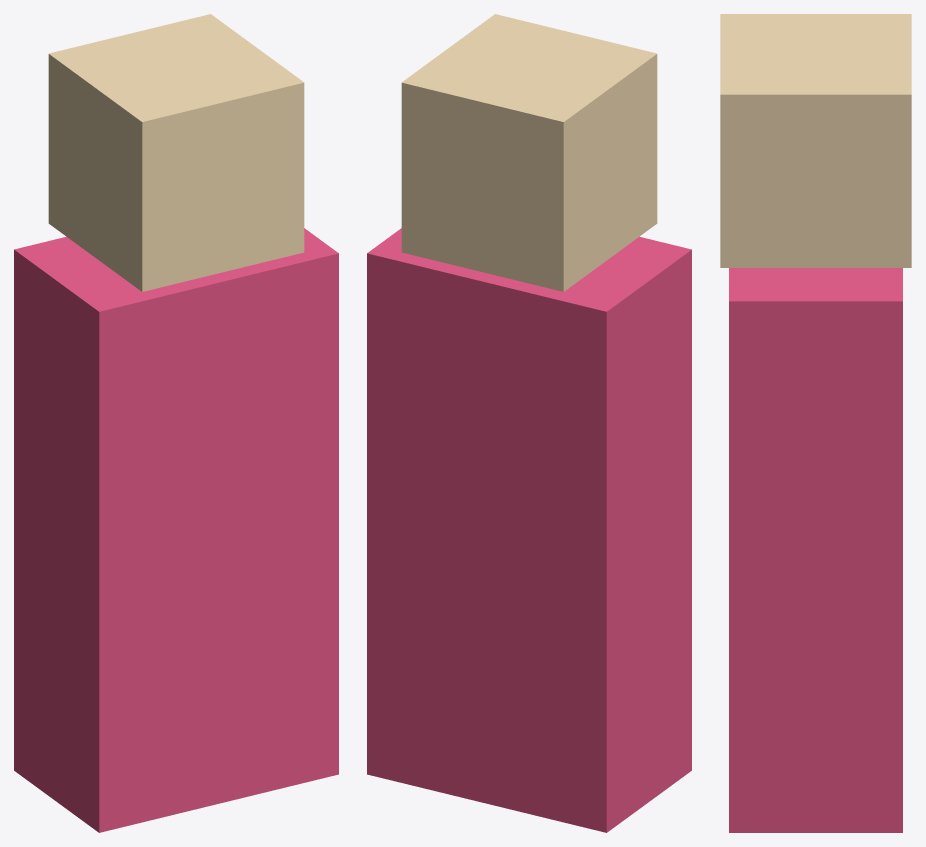
The model's file is npc.glb.
3 renders of one model, left to right at view 1: azimuth 30°, elevation 25°; view 2: azimuth 150°, elevation 25°; view 3: azimuth 270°, elevation 25°, orthographic. The views are drawn at different scales.
Visible parts, largest first — view 1: body, head; view 2: body, head; view 3: body, head.
Part boxes in pixels (x1,y1,x2,y2): body: (14,228,338,832); head: (48,14,304,291); body: (367,228,691,832); head: (401,14,657,291); body: (729,268,902,832); head: (720,14,911,267).
Size of what is drawn, in the model's own units: 0.65 by 1.83 by 0.44.
